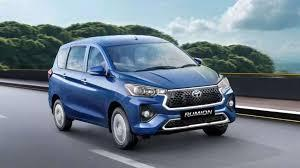toyota: (188, 88, 204, 99)
